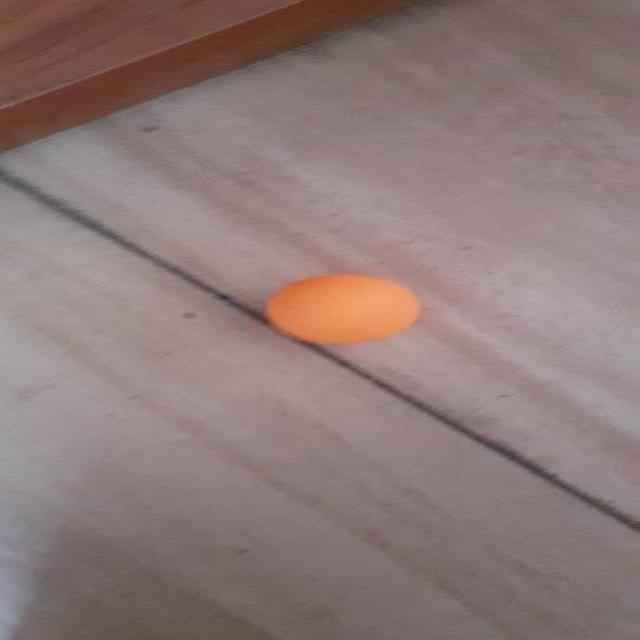ping-pong-ball: (261, 273, 422, 343)
